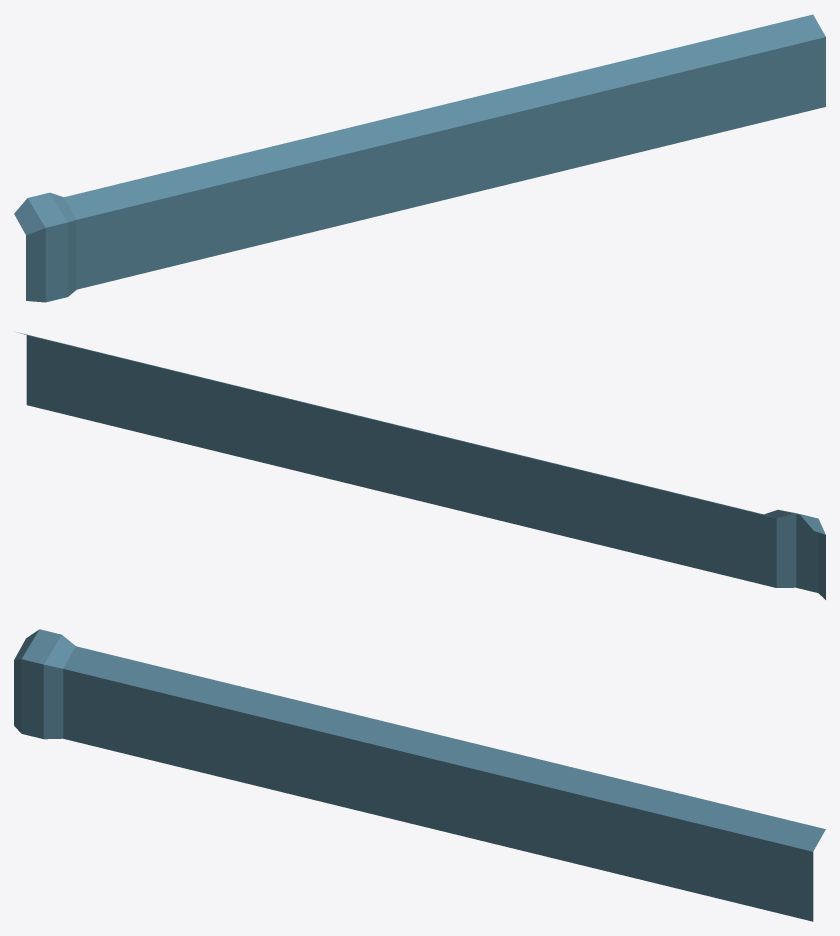
Rendered from panel_01.fbx.
3 renders of one model, top to bottom at view 1: azimuth 30°, elevation 25°; view 2: azimuth 150°, elevation 25°; view 3: azimuth 330°, elevation 25°, orthographic.
Visible parts, largest first — view 1: polySurface2; view 2: polySurface2; view 3: polySurface2.
Part boxes in pixels (left/top/right/bottom): polySurface2: left=14, top=14, right=825, bottom=302; polySurface2: left=16, top=332, right=825, bottom=599; polySurface2: left=14, top=629, right=825, bottom=921.
Size of the model in its own units: 300 by 32.73 by 11.78.
